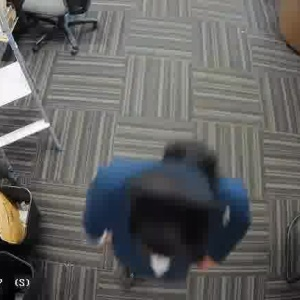person: (88, 137, 239, 287)
